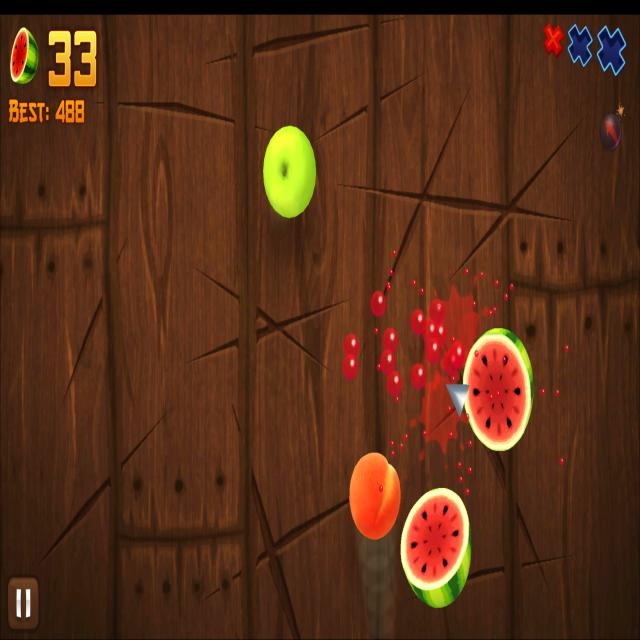fruit: (262, 125, 316, 219), (348, 453, 402, 540)
